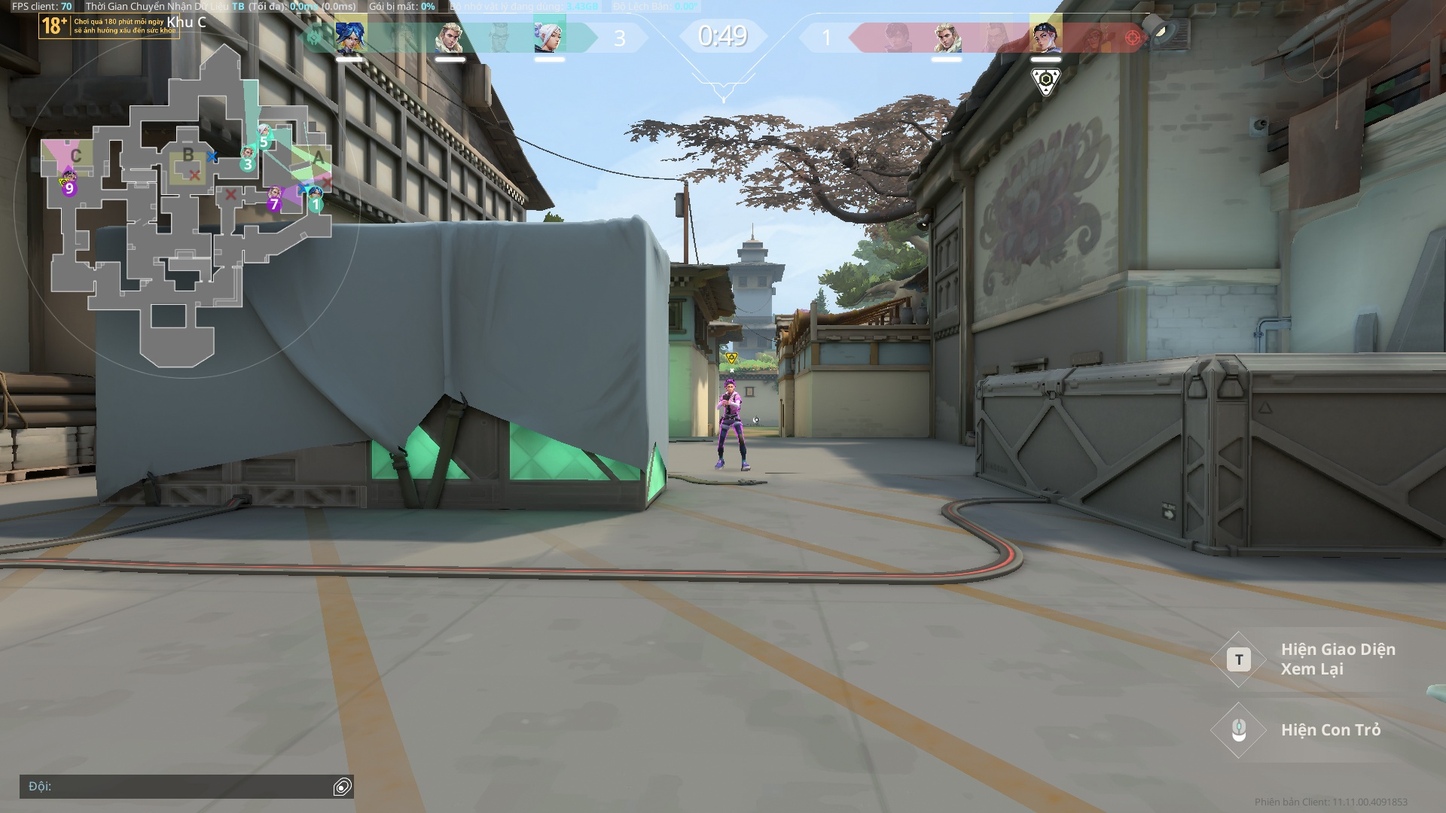body: (722, 391, 741, 416)
head: (725, 378, 737, 391)
